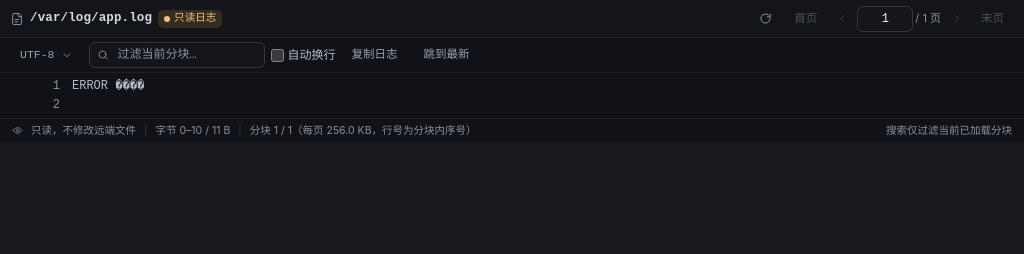
LogViewer › does not let an older encoding response replace the latest response and decodes with the encoding used at request time
Click the button named "重新读取当前分块（日志文件可能已增长）" at (765, 18), box [752,6,778,32]
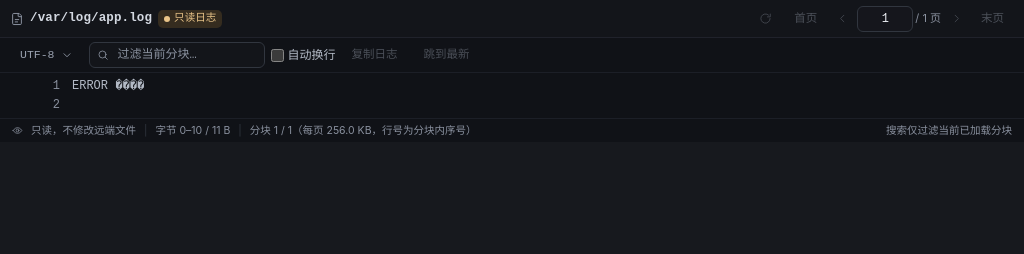
Click the button "UTF-8" at (46, 55), box [10,42,82,68]
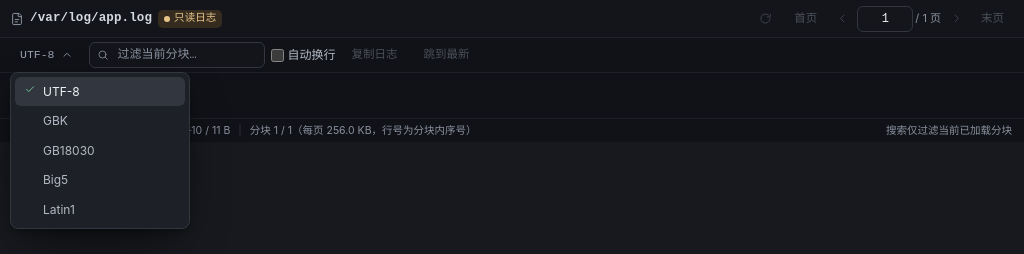
Click the option "GBK" at (55, 121), box [43,113,68,128]
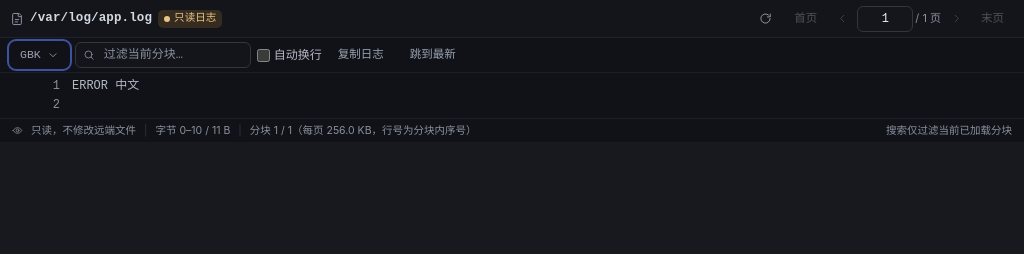
Result: the text "ERROR 中文" is shown at [72,77,139,96]
